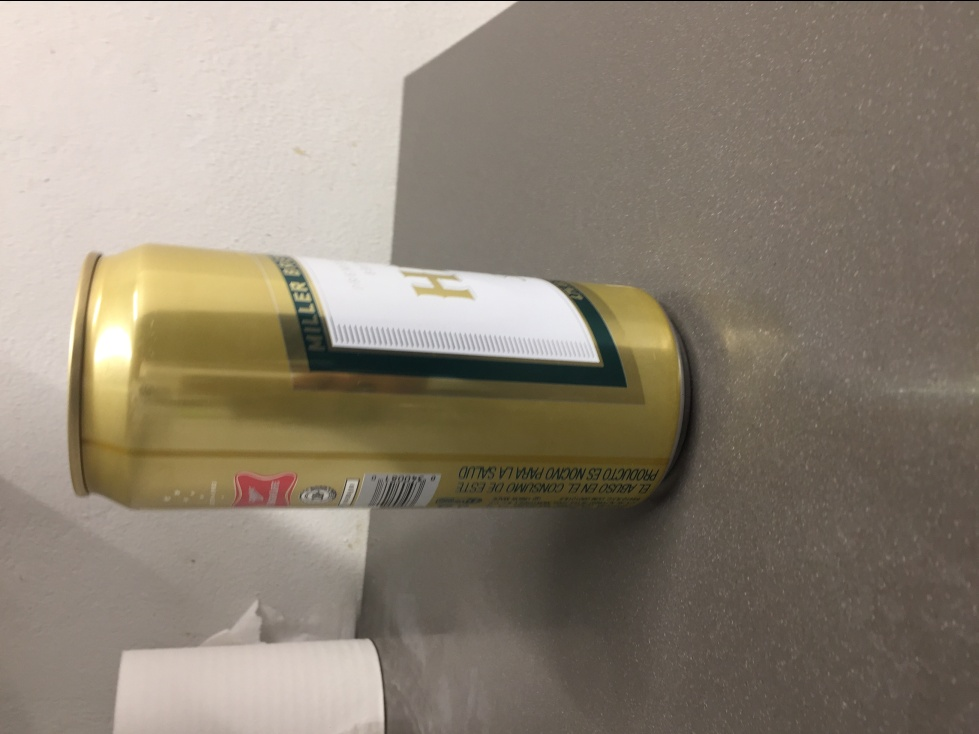miller: (64, 239, 692, 511)
